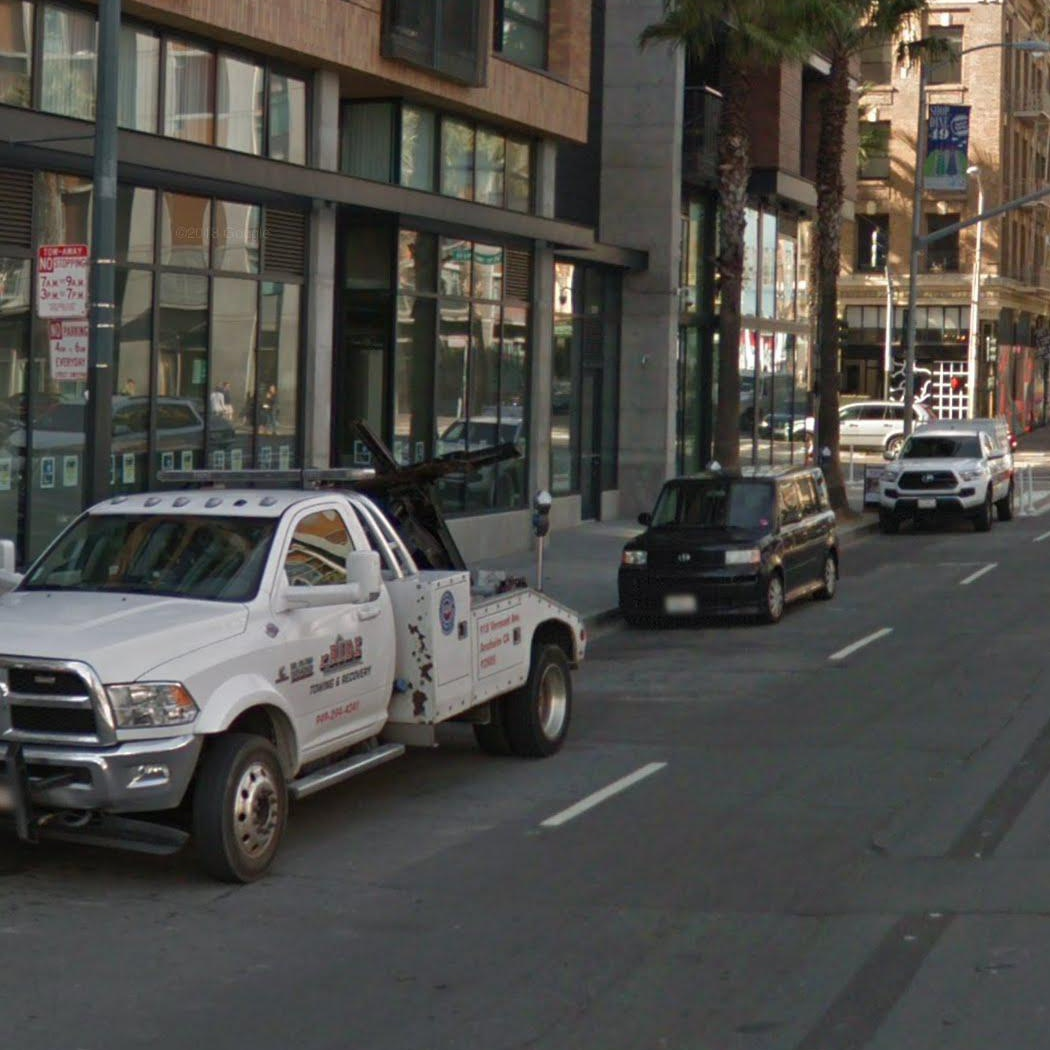No Parking: (46, 320, 90, 382)
